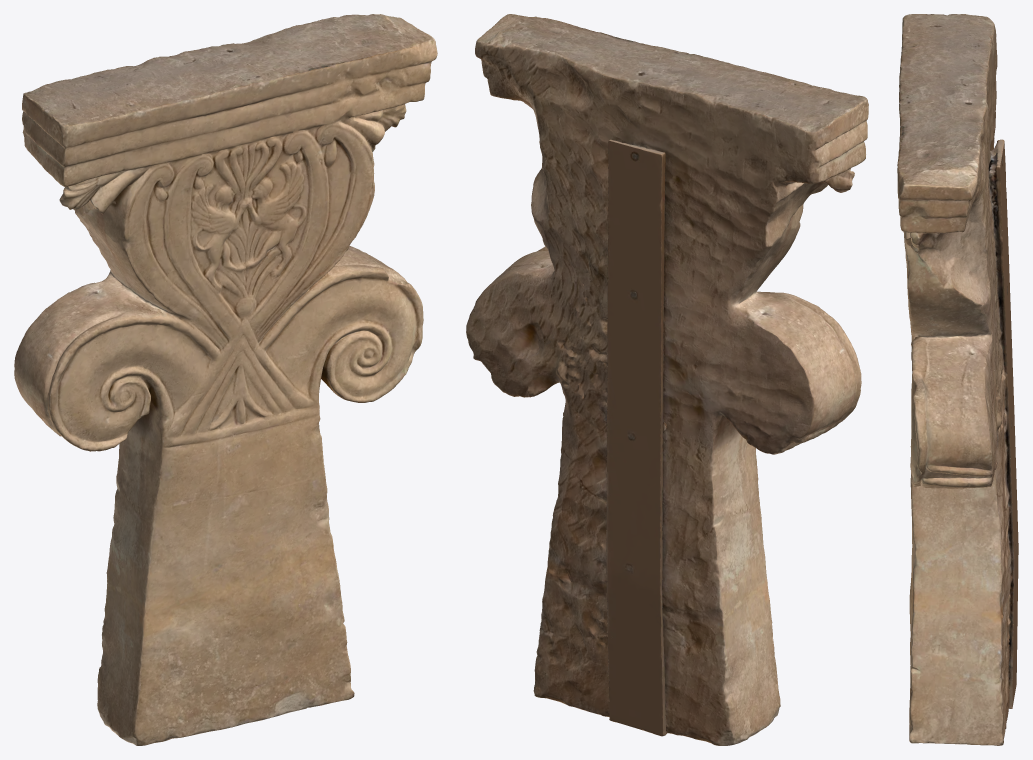
The model's file is preview.glb.
3 views of the same model, side by side, from view 1: azimuth 30°, elevation 25°; view 2: azimuth 150°, elevation 25°; view 3: azimuth 270°, elevation 25° (orthographic). The views are drawn at different scales.
Parts seen in each view (by area): view 1: ADVIMG_PG_74_51_2493_CypriotStele_NewUVTextured_n3d; view 2: ADVIMG_PG_74_51_2493_CypriotStele_NewUVTextured_n3d; view 3: ADVIMG_PG_74_51_2493_CypriotStele_NewUVTextured_n3d.
Boxes of the visible parts, x1=… form: ADVIMG_PG_74_51_2493_CypriotStele_NewUVTextured_n3d: x1=14, y1=14, x2=437, y2=745; ADVIMG_PG_74_51_2493_CypriotStele_NewUVTextured_n3d: x1=466, y1=14, x2=868, y2=745; ADVIMG_PG_74_51_2493_CypriotStele_NewUVTextured_n3d: x1=897, y1=14, x2=1018, y2=745.
Size of the model in its own units: 0.8225 by 1.37 by 0.2485.
1 material, 1 textured.
